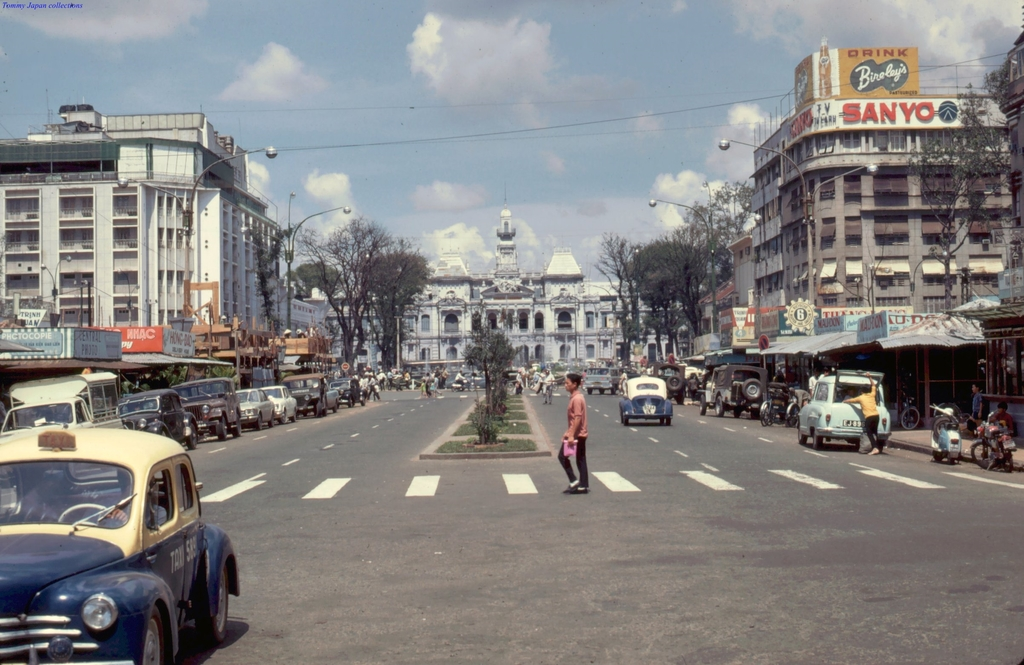Car: (0, 368, 357, 664), (794, 363, 894, 446), (620, 367, 673, 426)
